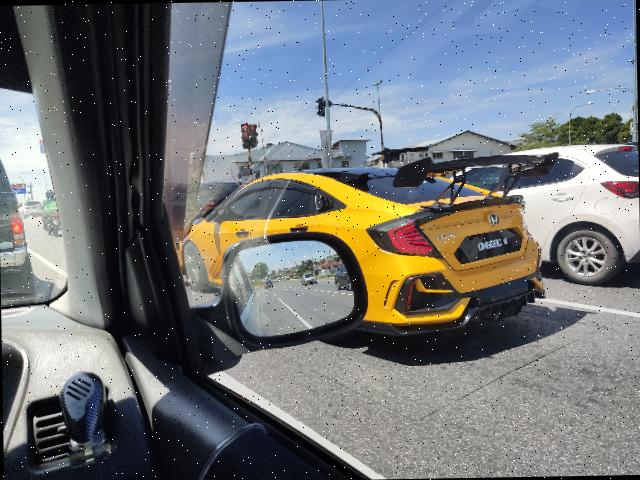License_Plate: (463, 229, 518, 264)
car: (182, 146, 550, 360), (451, 133, 640, 281)
